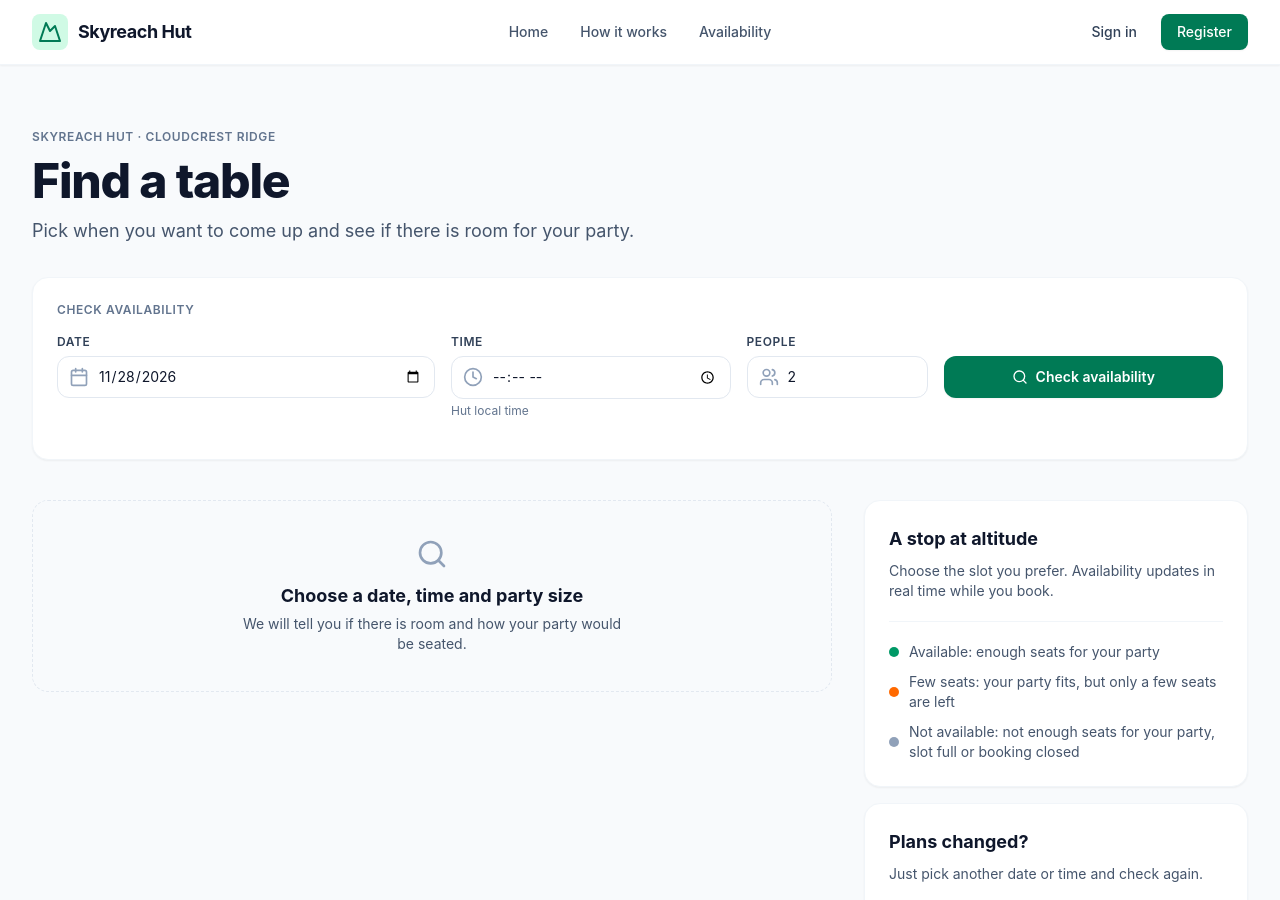
it: CheckAvailability › does not offer retry when the API rejects the search
Type "2099-12-31" into the date field labelled "Date" at (246, 377), box [57,356,435,398]
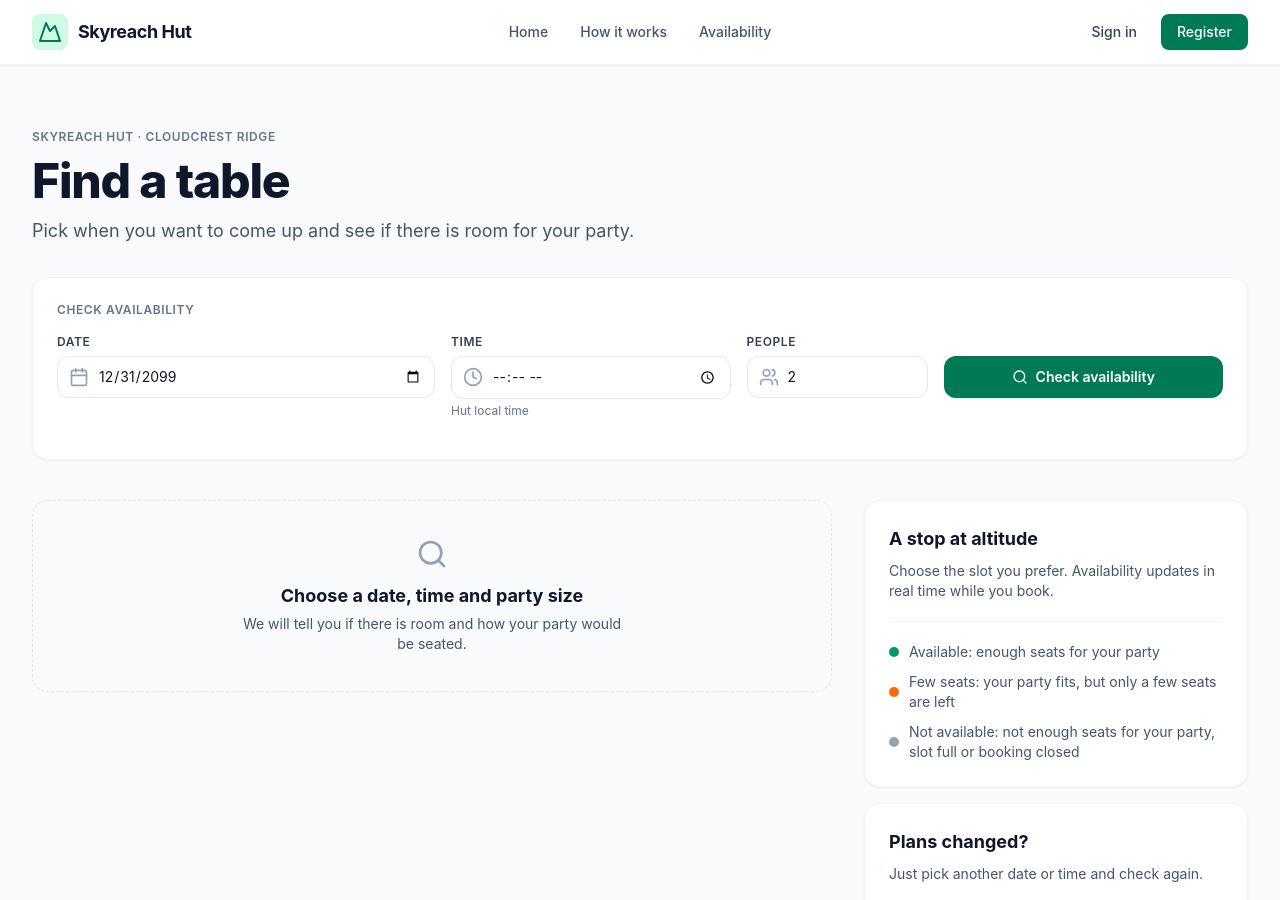
Type "18:30" into the time field labelled "Time" at (591, 377), box [451,356,730,399]
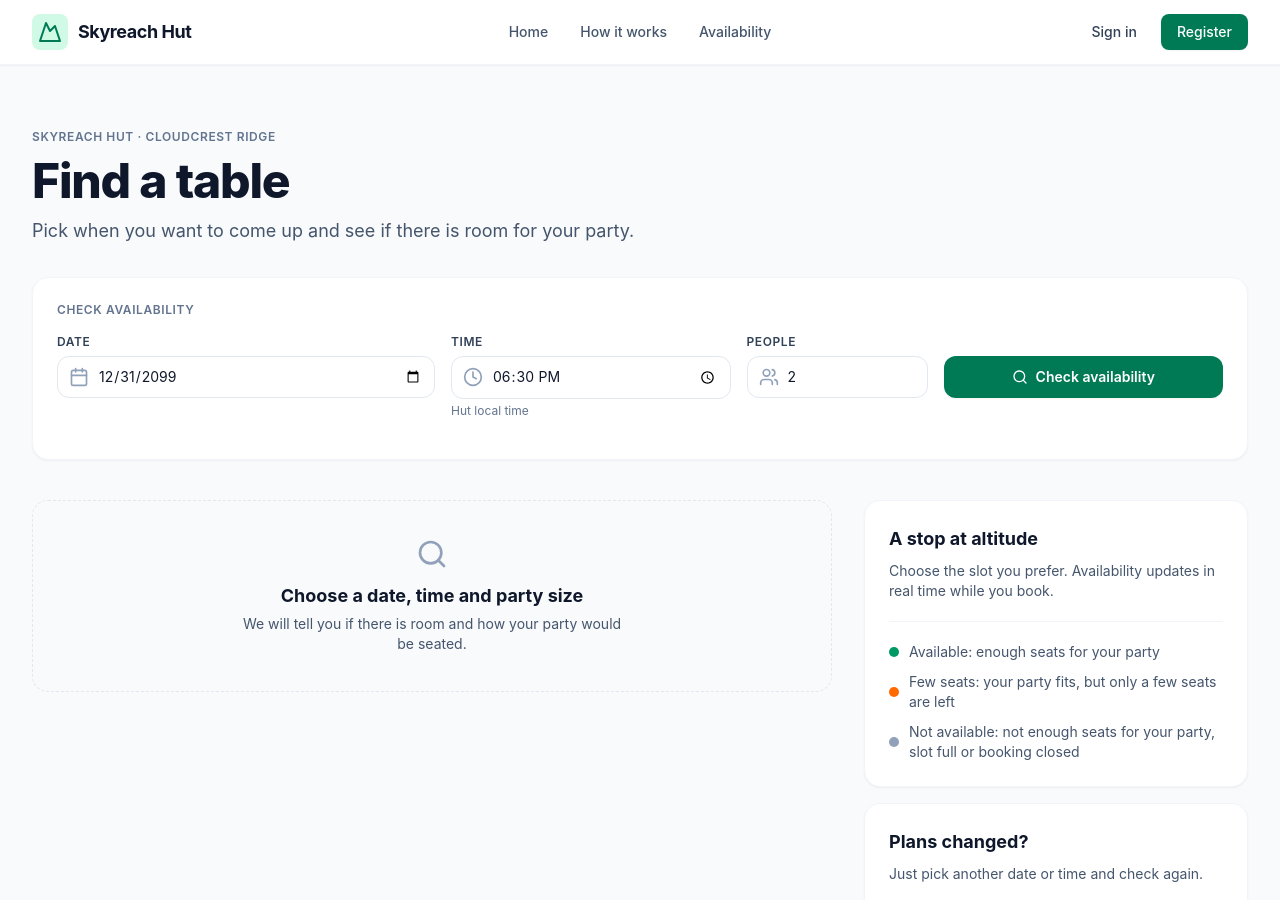
Replace the text in the number field labelled "People" with "6" at (837, 377), box [746,356,928,398]
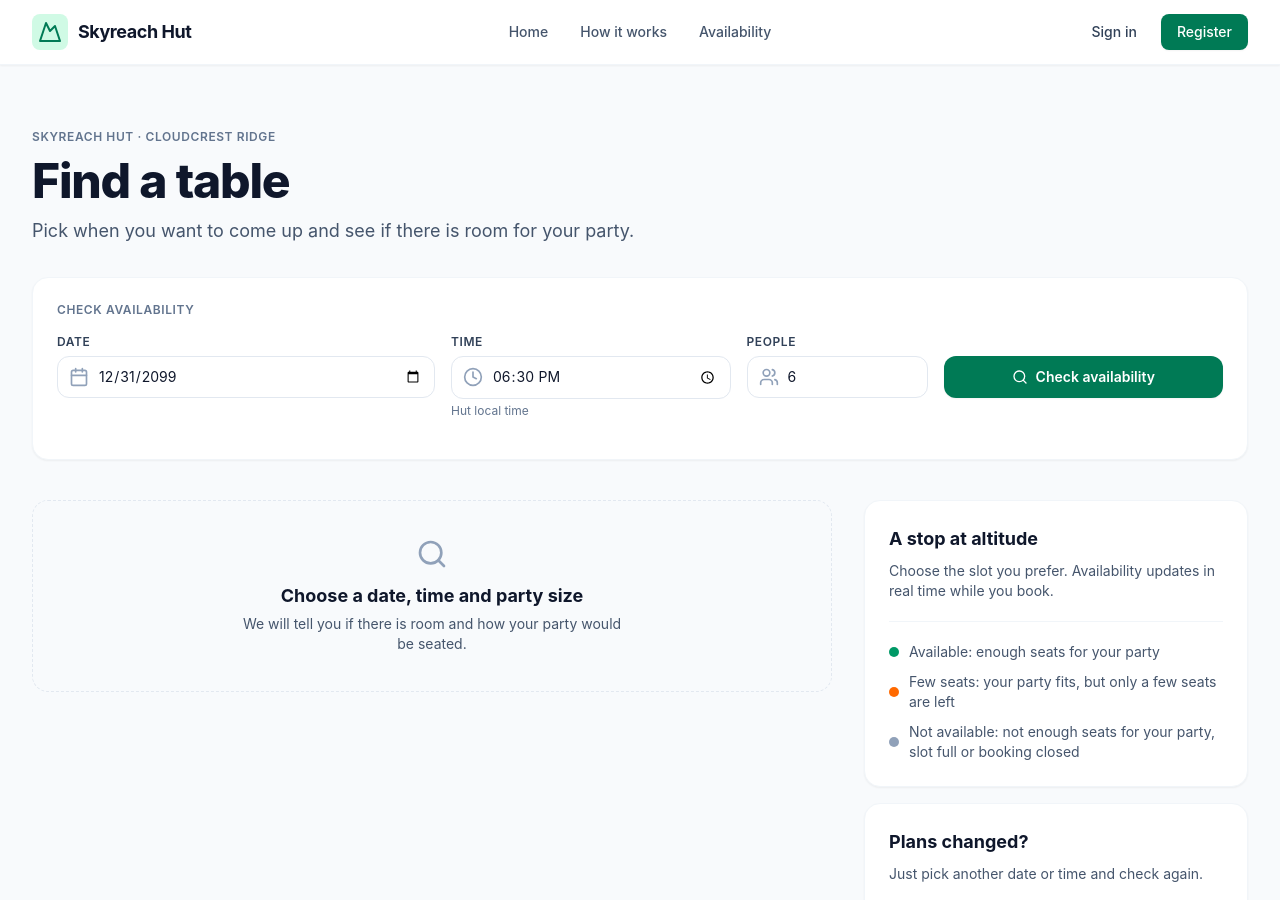
Click the button "Check availability" at (1083, 377), box [944,356,1223,398]
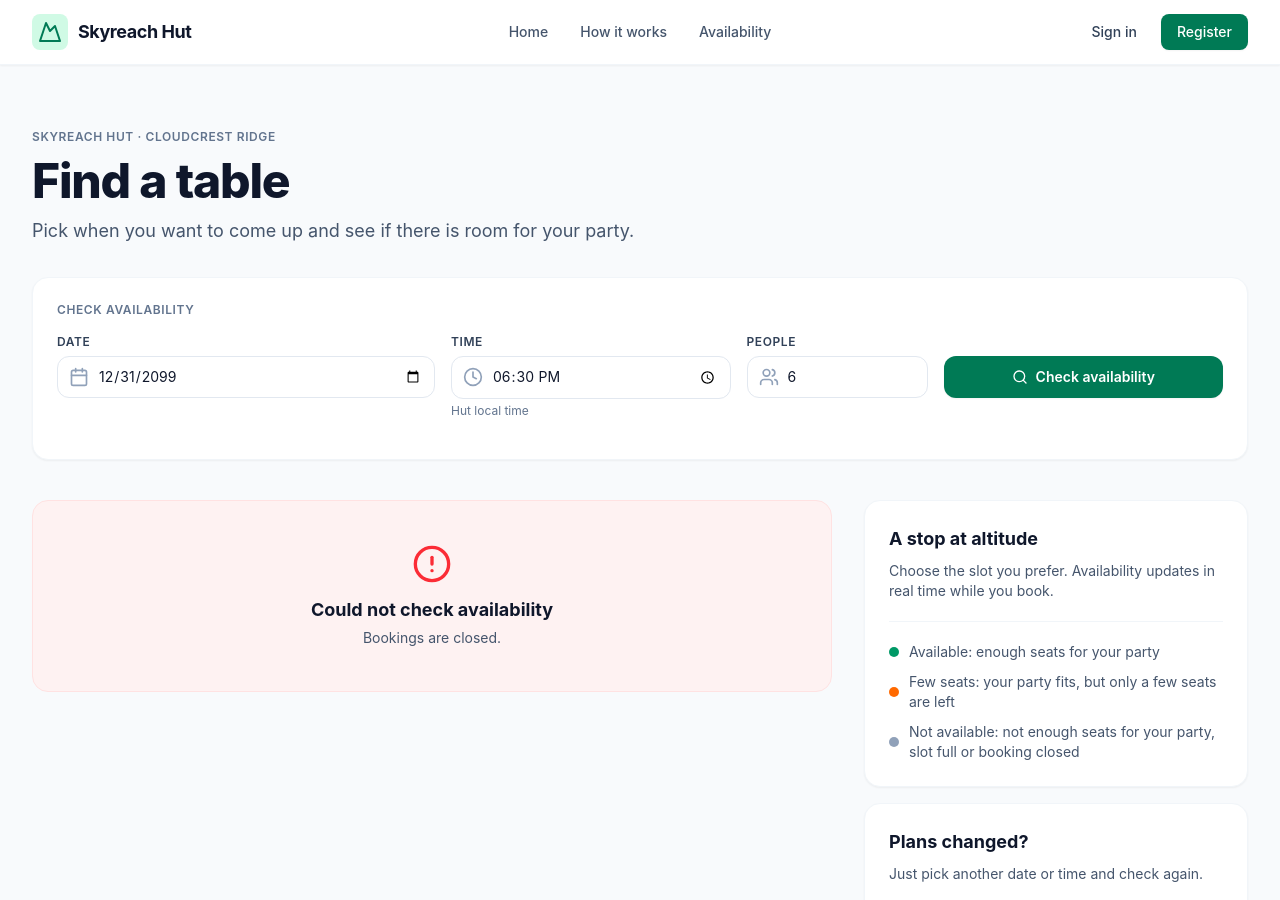
Check: the text "Bookings are closed." is shown, box [363,628,501,648]
